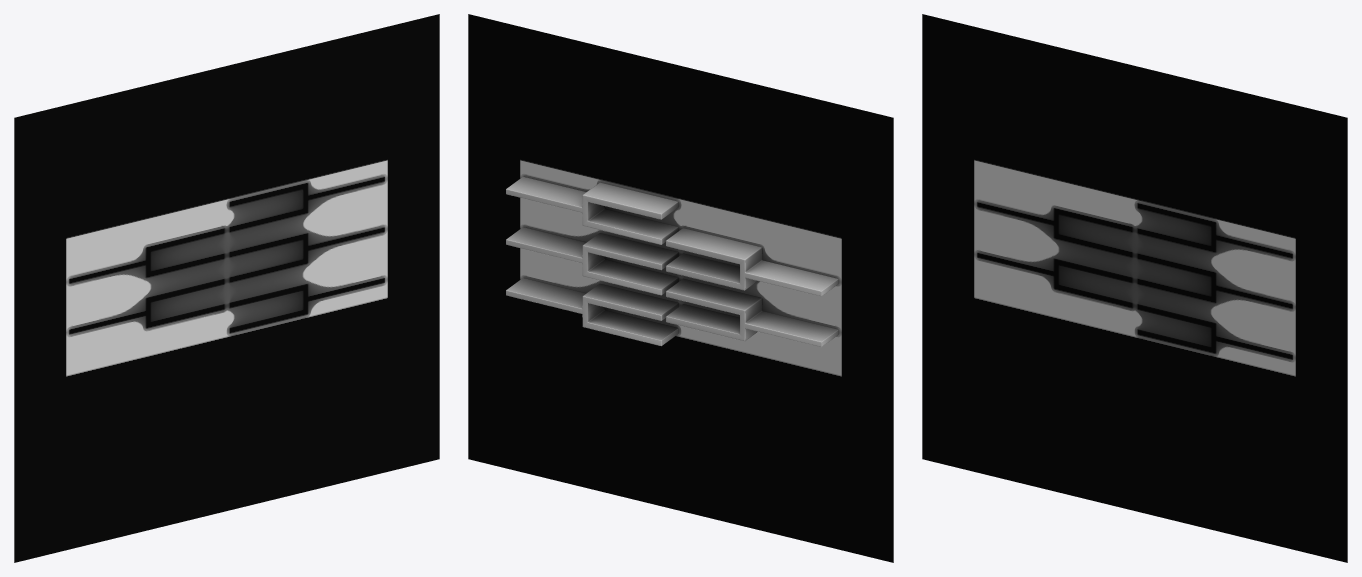
The model's file is shelf.fbx.
The picture shows the model from 3 angles, left to right: view 1: azimuth 30°, elevation 25°; view 2: azimuth 150°, elevation 25°; view 3: azimuth 330°, elevation 25°; orthographic projection.
Parts seen in each view (by area): view 1: Shadow; view 2: Shadow, Wall shelves; view 3: Shadow.
Part boxes in pixels (x1,y1,x2,y2): Shadow: (14,14,439,562); Shadow: (468,14,893,562); Wall shelves: (506,176,838,346); Shadow: (922,14,1347,562).
Size of the model in its own units: 314 by 314 by 21.96.
2 materials, 2 textured.
